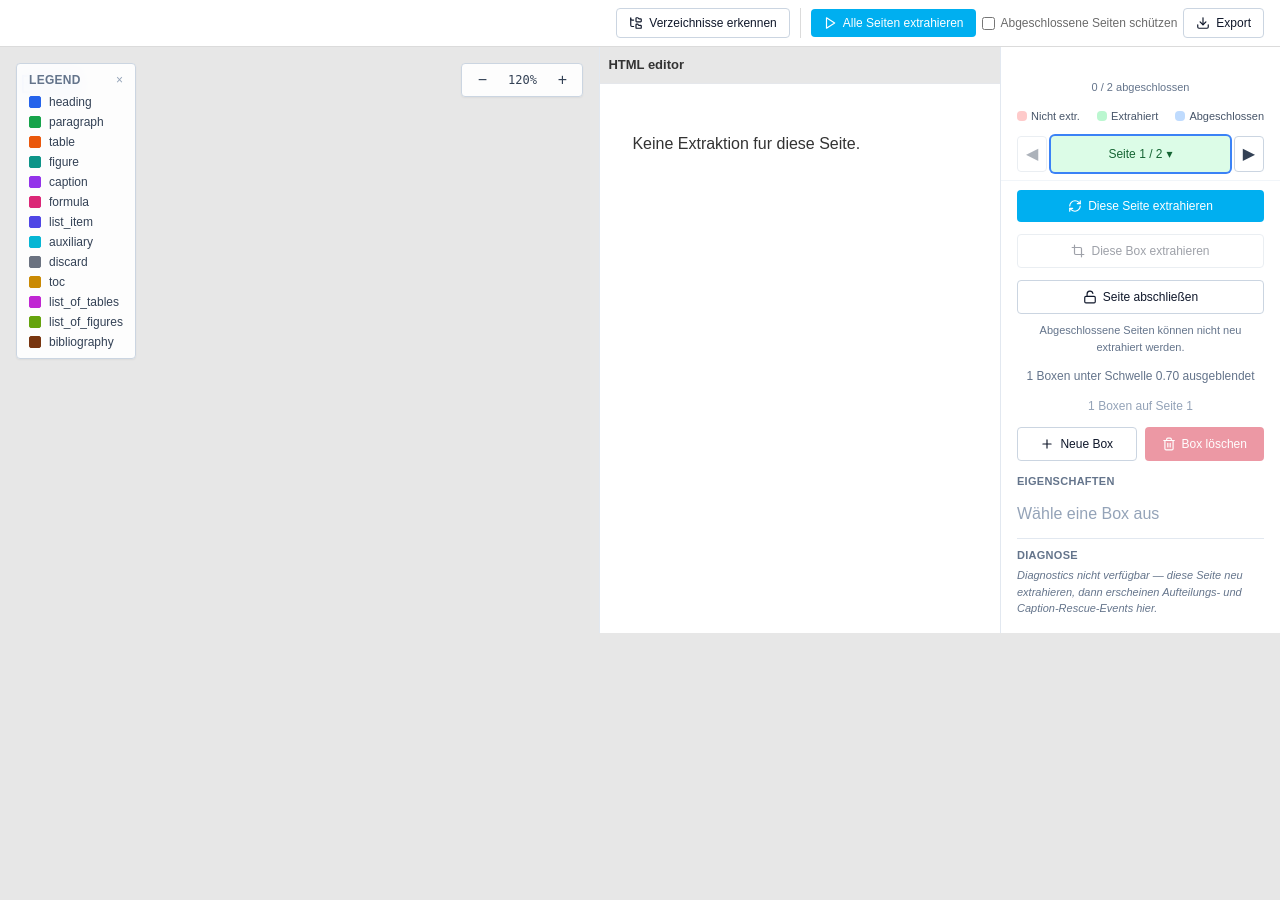
Test case: ExtractRoute › renders page buttons for each page in the segment data
Check: the element with test id "html-editor-host" is shown, box [600,84,1000,632]
Click the button with test id "extract-page-grid-toggle": (1140, 154) [1051,136,1230,172]
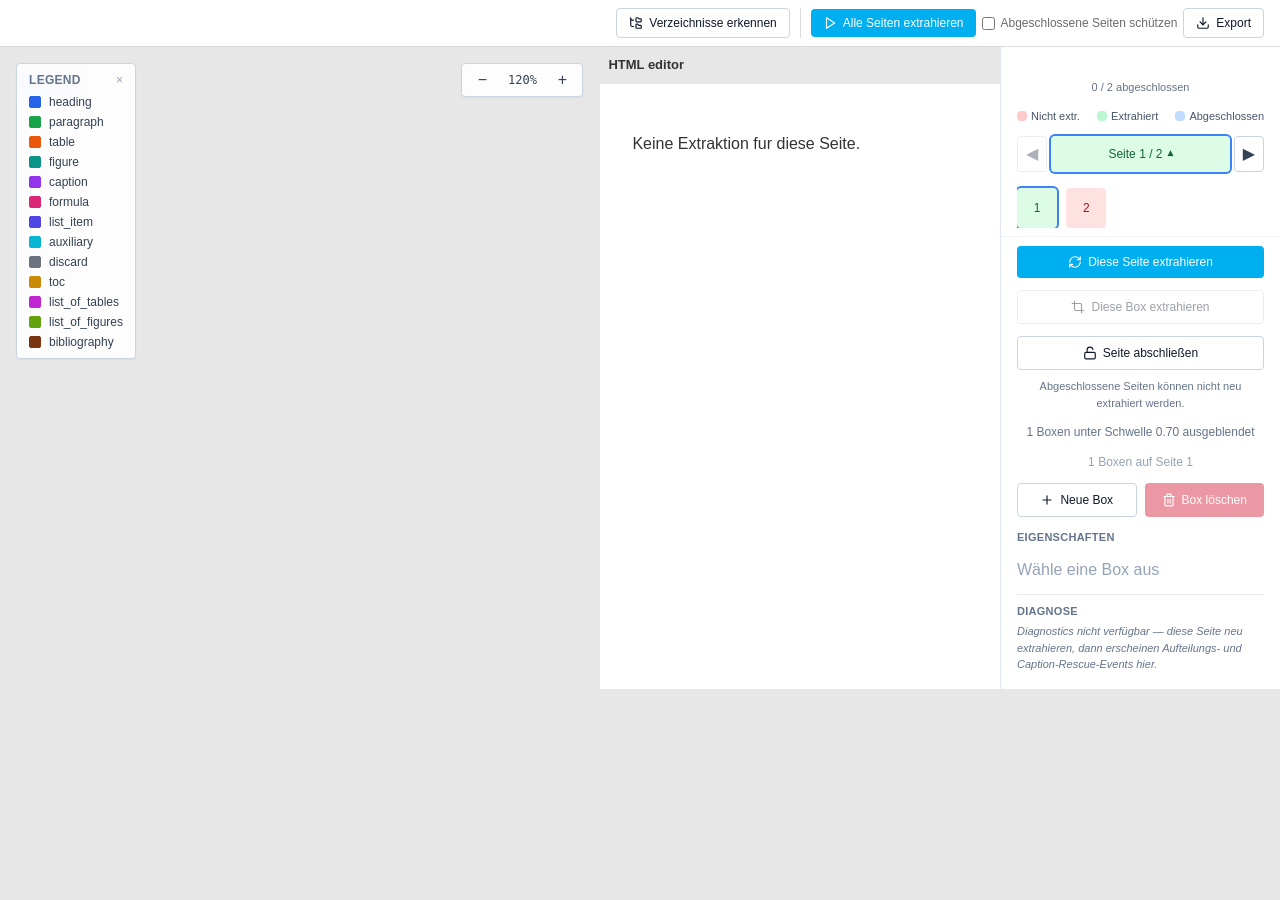
Check: the button with test id "page-btn-1" is shown, box [1017,188,1057,228]
Check: the button with test id "page-btn-2" is shown, box [1066,188,1106,228]
